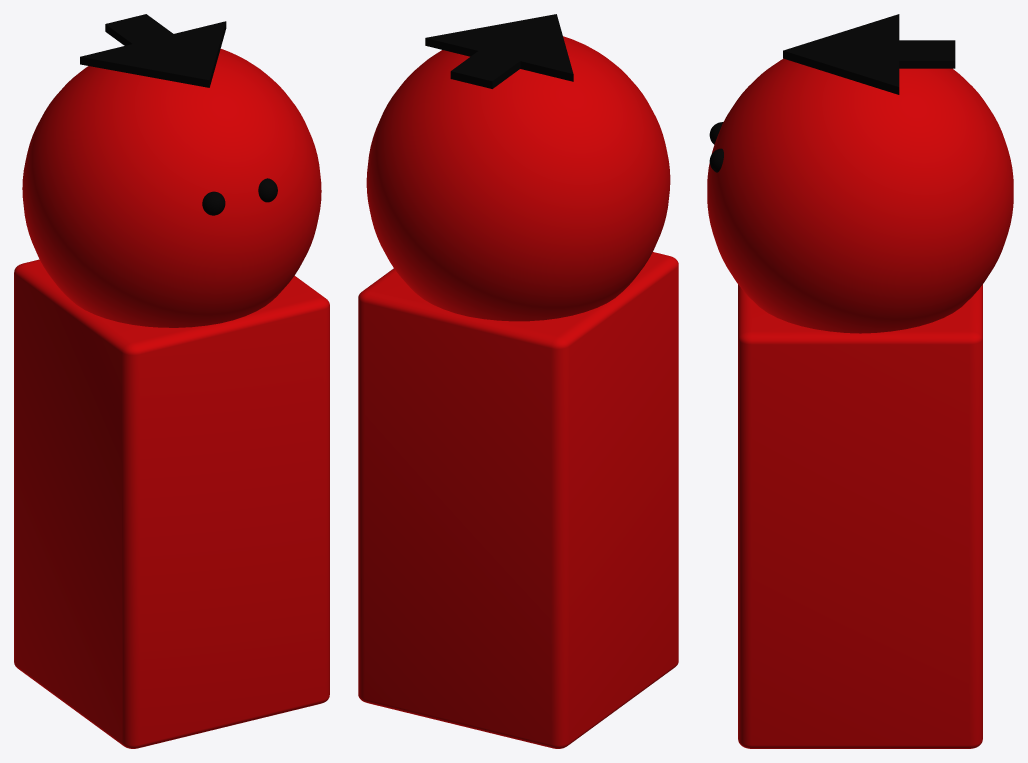
The picture shows the model from 3 angles, left to right: view 1: azimuth 30°, elevation 25°; view 2: azimuth 150°, elevation 25°; view 3: azimuth 270°, elevation 25°; orthographic projection. The views are drawn at different scales.
Parts seen in each view (by area): view 1: Curve.004_Curve.009_Material.002, Curve.004_Curve.009_SVGMat; view 2: Curve.004_Curve.009_Material.002, Curve.004_Curve.009_SVGMat; view 3: Curve.004_Curve.009_Material.002, Curve.004_Curve.009_SVGMat.
Boxes of the visible parts, x1=… form: Curve.004_Curve.009_Material.002: x1=14, y1=49, x2=329, y2=748; Curve.004_Curve.009_SVGMat: x1=80, y1=14, x2=277, y2=215; Curve.004_Curve.009_Material.002: x1=358, y1=36, x2=678, y2=748; Curve.004_Curve.009_SVGMat: x1=425, y1=14, x2=573, y2=88; Curve.004_Curve.009_Material.002: x1=707, y1=58, x2=1013, y2=748; Curve.004_Curve.009_SVGMat: x1=709, y1=14, x2=955, y2=172.
Size of the model in its own units: 0.2062 by 0.4815 by 0.2057.
